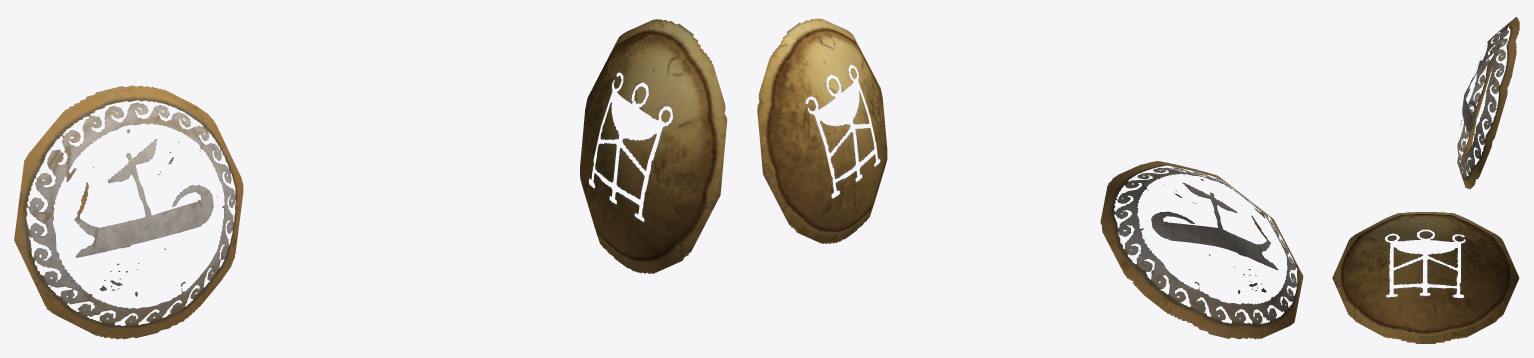
Rendered from hele_house_d_shields.dae.
The picture shows the model from 3 angles, left to right: view 1: azimuth 30°, elevation 25°; view 2: azimuth 150°, elevation 25°; view 3: azimuth 270°, elevation 25°; orthographic projection. The views are drawn at different scales.
Parts seen in each view (by area): view 1: shield027; view 2: shield027; view 3: shield027.
Boxes of the visible parts, bbox=[...] form: shield027: bbox=[14, 19, 727, 339]; shield027: bbox=[757, 18, 1303, 339]; shield027: bbox=[1332, 17, 1519, 343].
Bounding box in the file's own units: 5.42 × 1.95 × 2.
